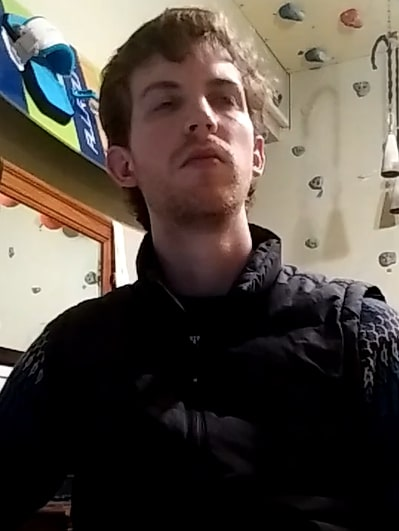Half Asleep: (137, 81, 244, 121)
